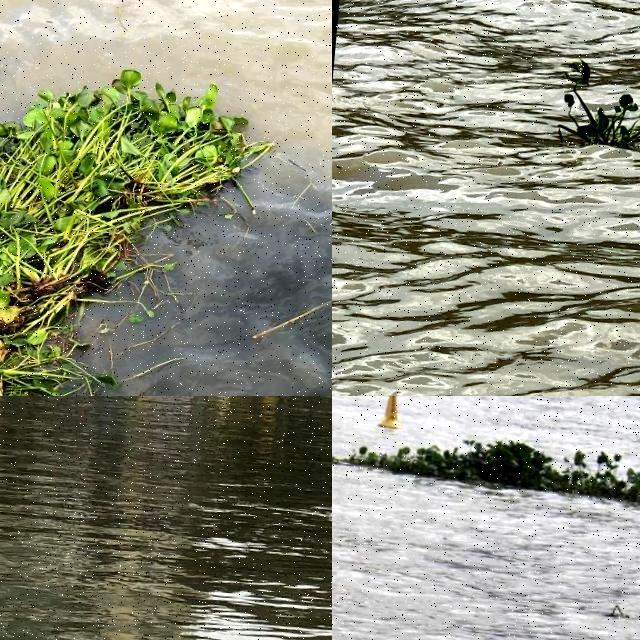water-hyacinth: (1, 49, 235, 397), (351, 423, 640, 527), (541, 55, 640, 160), (333, 435, 369, 473)
